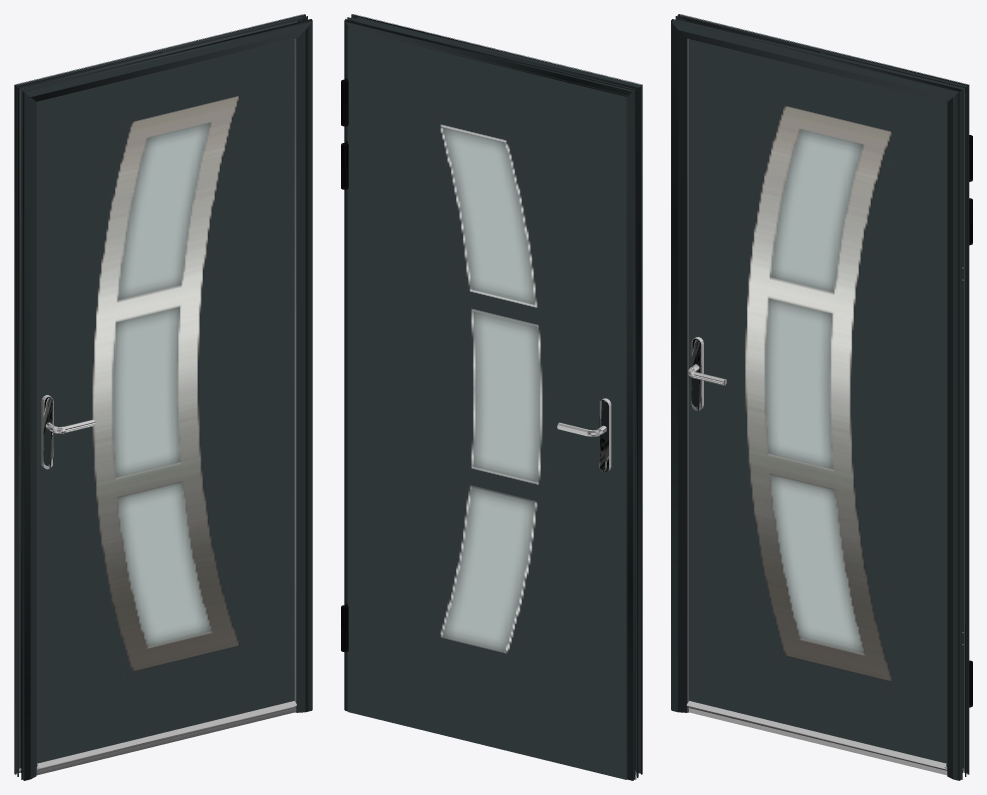
3 renders of one model, left to right at view 1: azimuth 30°, elevation 25°; view 2: azimuth 150°, elevation 25°; view 3: azimuth 330°, elevation 25°, orthographic.
Visible parts, largest first — view 1: ouvrant, 50, puxador; view 2: ouvrant, 50, puxador; view 3: ouvrant, 50, puxador.
Part boxes in pixels (left/top/right/bottom): ouvrant: left=19, top=21, right=297, bottom=770; 50: left=14, top=14, right=312, bottom=780; puxador: left=41, top=395, right=53, bottom=469; ouvrant: left=341, top=28, right=627, bottom=779; 50: left=341, top=14, right=642, bottom=780; puxador: left=599, top=398, right=611, bottom=472; ouvrant: left=685, top=21, right=972, bottom=770; 50: left=671, top=14, right=972, bottom=780; puxador: left=691, top=337, right=703, bottom=410.
Bounding box in the file's own units: 96 × 218 × 19.09.
Materials: 1 (1 with a texture image).
